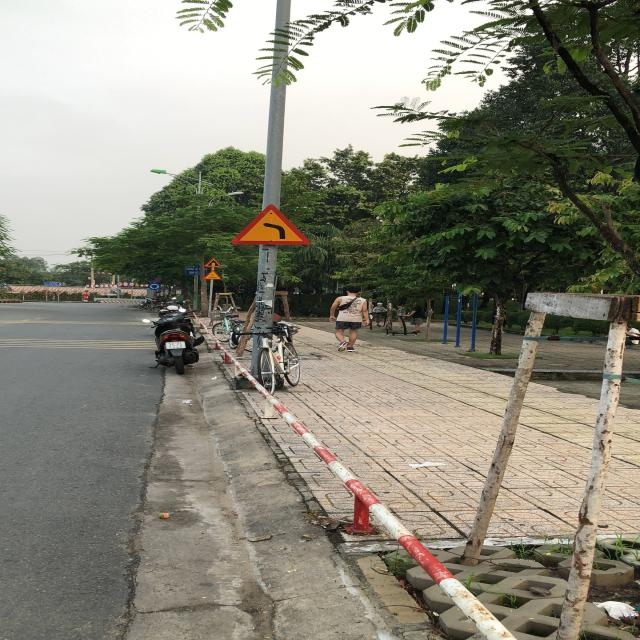Bien bao cho ngoat nguy hiem: (228, 200, 311, 248)
Bien bao di cham: (200, 269, 222, 280)
Bien bao noi giao nhau chay theo vong xuyen: (148, 282, 162, 290)
